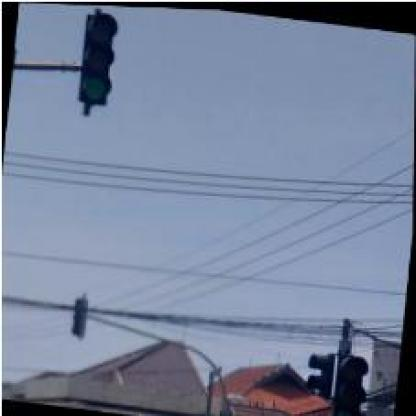green: (77, 10, 117, 107), (332, 352, 372, 414)
